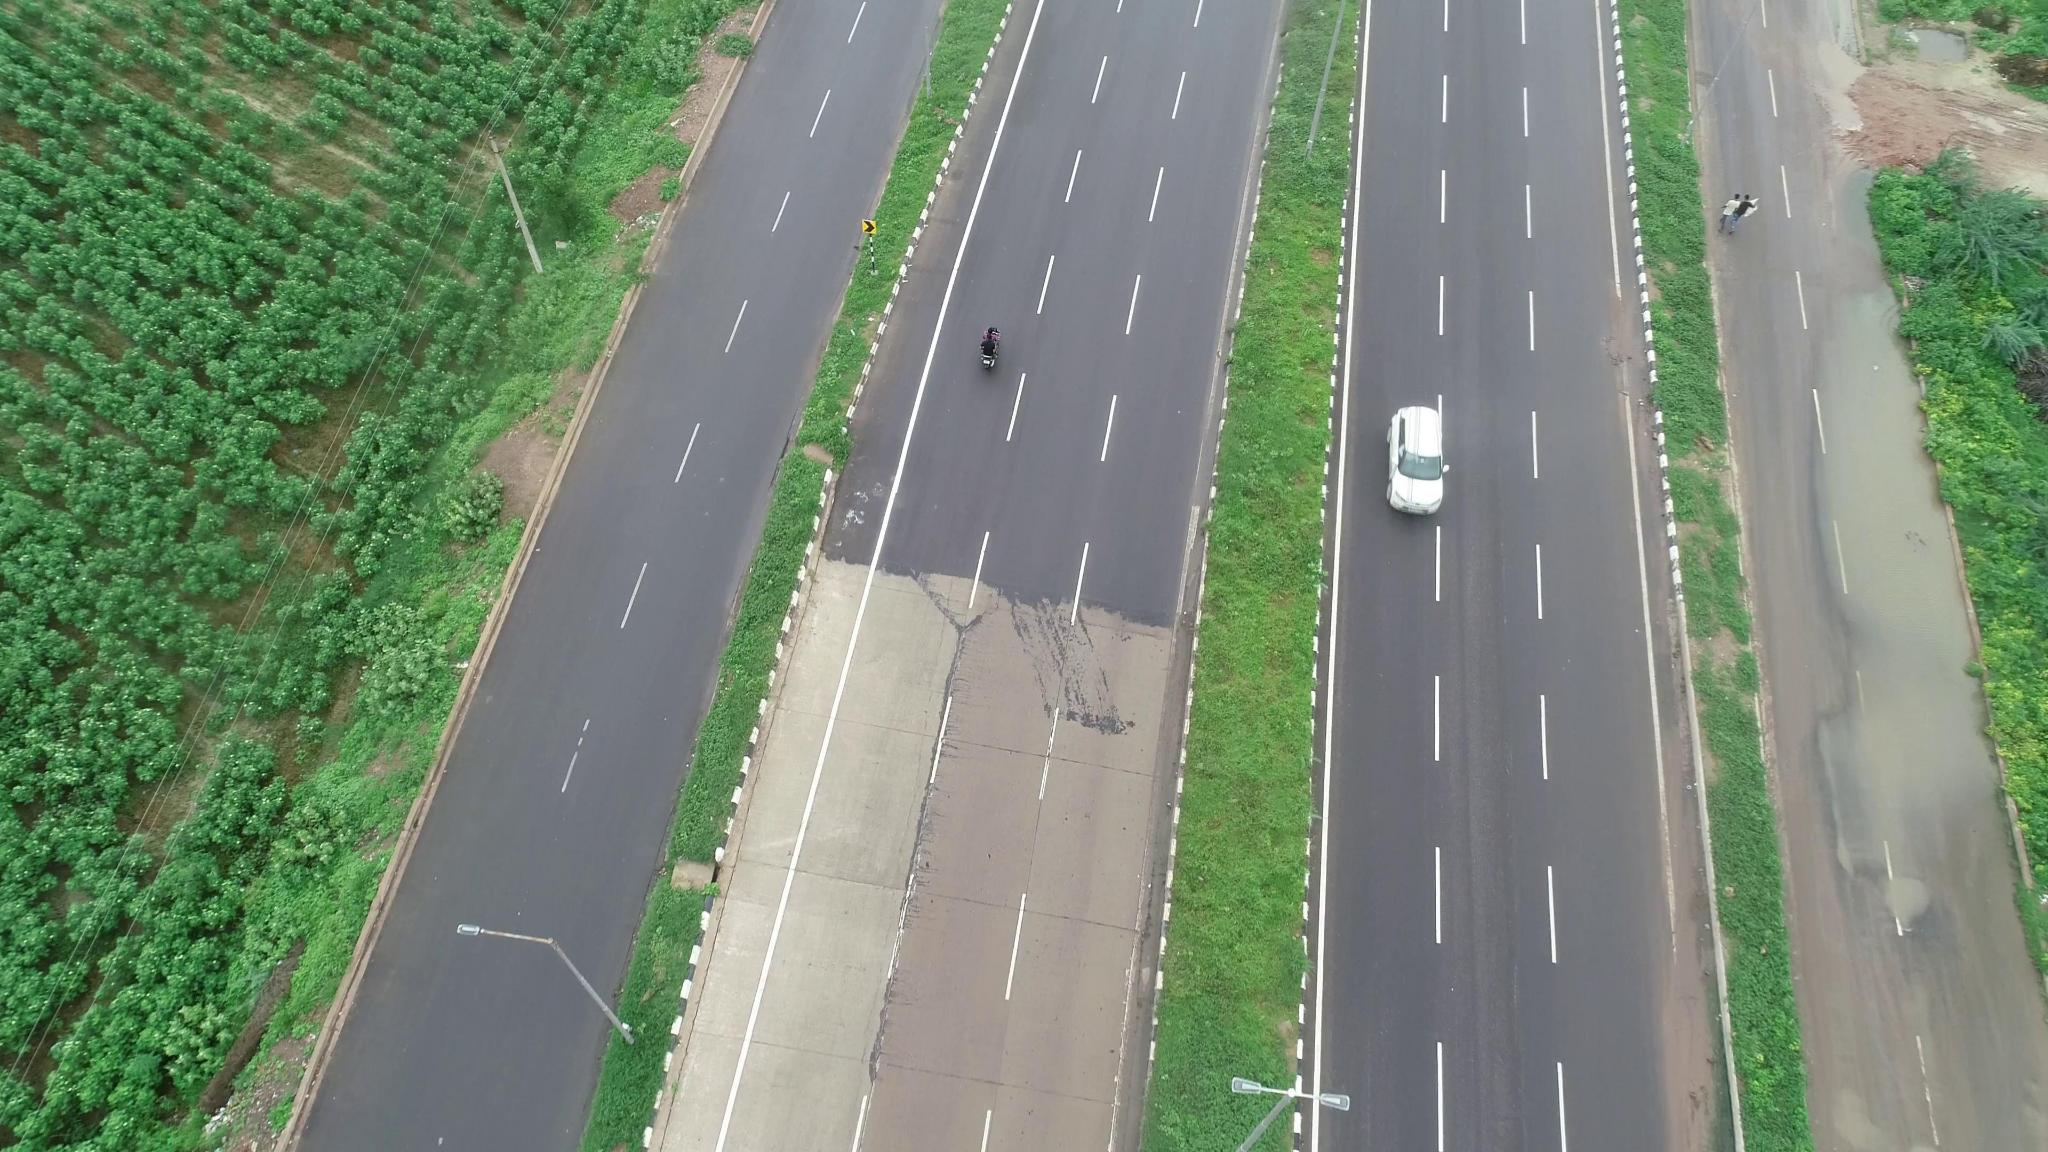Waterlogging: (1800, 315, 1996, 871)
